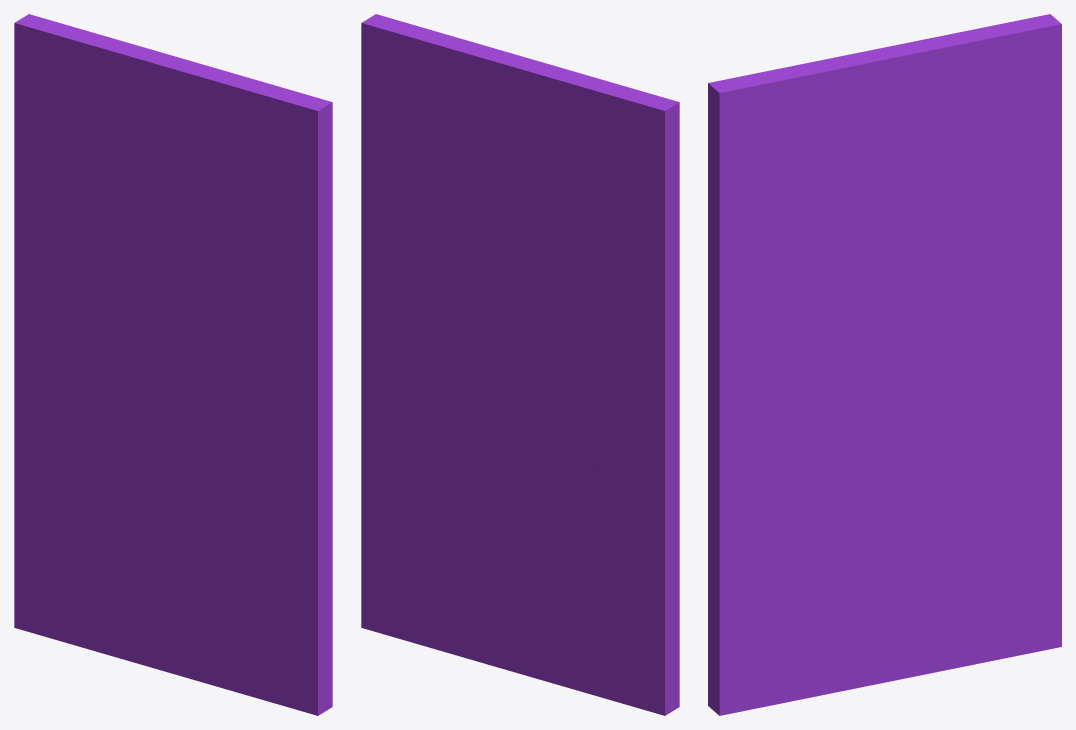
The model's file is Glass_30_chunks.fbx.
The picture shows the model from 3 angles, left to right: view 1: azimuth 30°, elevation 25°; view 2: azimuth 210°, elevation 25°; view 3: azimuth 270°, elevation 25°; orthographic projection. The views are drawn at different scales.
Visible parts, largest first — view 1: Glass_30_0, Glass_30_1, Glass_30_6, Glass_30_5, Glass_30_3, Glass_30_4, Glass_30_2; view 2: Glass_30_0, Glass_30_1, Glass_30_6, Glass_30_4, Glass_30_5, Glass_30_2; view 3: Glass_30_0, Glass_30_1, Glass_30_6, Glass_30_5, Glass_30_2, Glass_30_4.
Boxes of the visible parts, bbox=[...] form: Glass_30_0: bbox=[14, 14, 332, 373]; Glass_30_1: bbox=[113, 337, 332, 715]; Glass_30_6: bbox=[14, 194, 163, 448]; Glass_30_5: bbox=[49, 445, 149, 656]; Glass_30_3: bbox=[14, 420, 114, 637]; Glass_30_4: bbox=[14, 310, 76, 566]; Glass_30_2: bbox=[321, 229, 332, 347]; Glass_30_0: bbox=[361, 14, 679, 340]; Glass_30_1: bbox=[361, 269, 562, 686]; Glass_30_6: bbox=[513, 266, 679, 477]; Glass_30_4: bbox=[587, 386, 679, 715]; Glass_30_5: bbox=[524, 447, 661, 714]; Glass_30_2: bbox=[361, 149, 546, 380]; Glass_30_0: bbox=[708, 14, 1061, 322]; Glass_30_1: bbox=[708, 319, 946, 715]; Glass_30_6: bbox=[891, 184, 1061, 444]; Glass_30_5: bbox=[903, 443, 1057, 669]; Glass_30_2: bbox=[710, 222, 927, 381]; Glass_30_4: bbox=[974, 308, 1061, 647].
Size of the model in its own units: 192 by 706 by 363.
